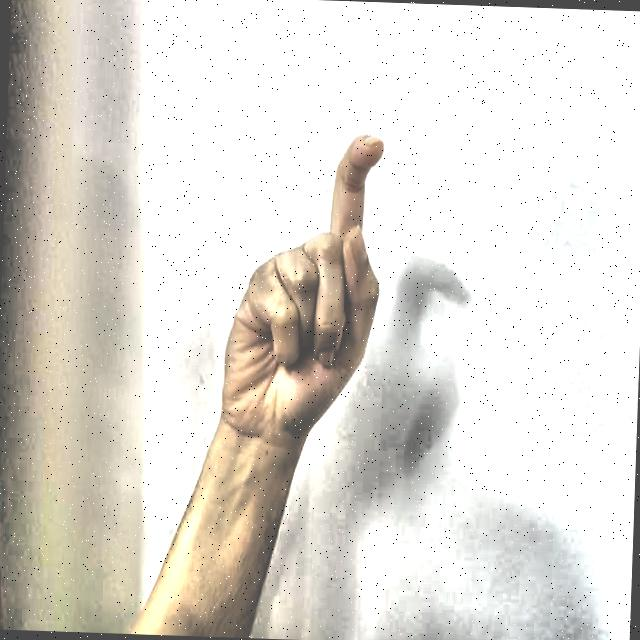E: (202, 107, 407, 455)
